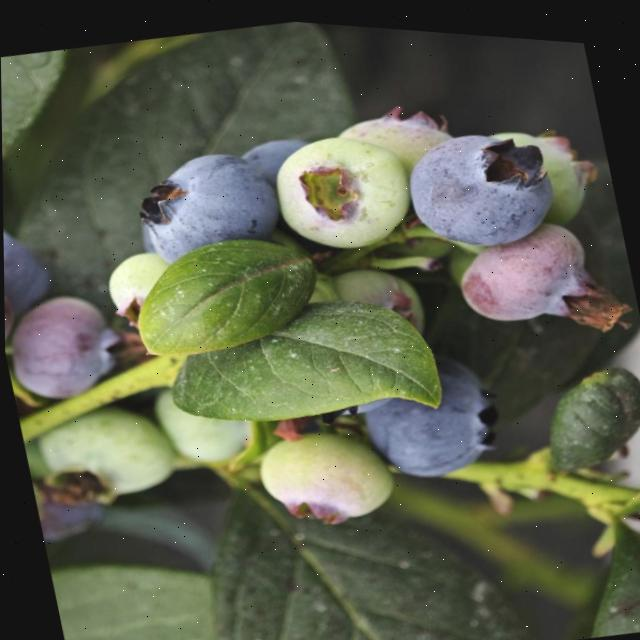RipeBlueBerry: (401, 108, 561, 252), (351, 333, 503, 484), (121, 135, 284, 261)
Semi-RipeBlueBerry: (453, 211, 604, 328)
UnripeBlueBerry: (263, 114, 422, 258), (32, 395, 183, 517), (246, 416, 396, 531), (3, 285, 129, 407)
